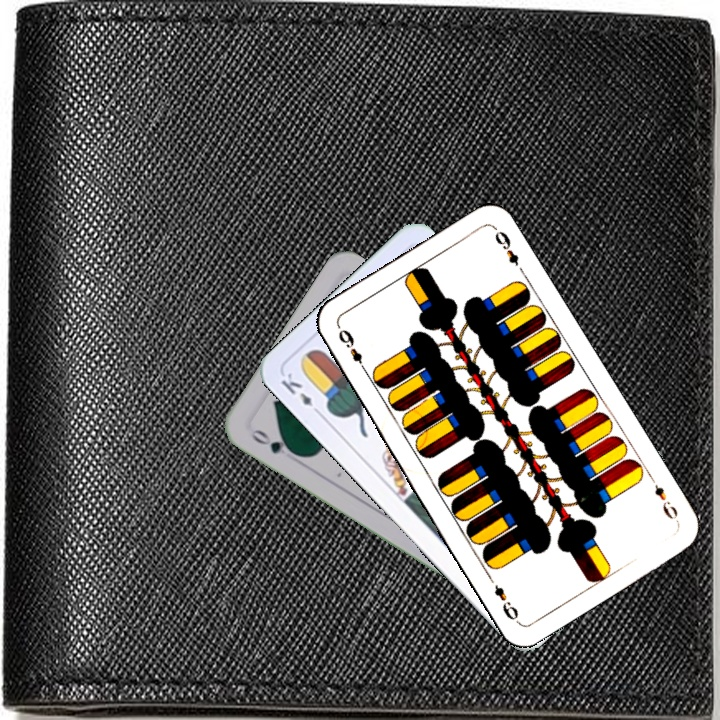E9: (645, 471, 681, 525), (334, 325, 371, 376)
EK: (276, 368, 325, 419)
GO: (247, 425, 300, 459)
